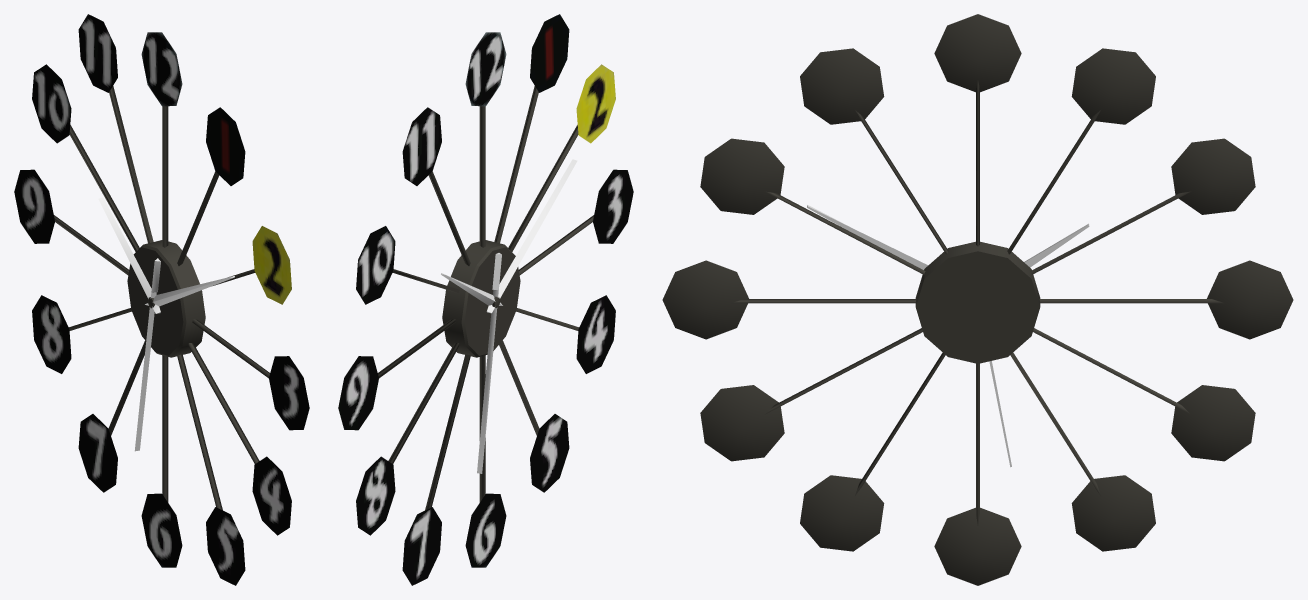
File: SZClock02.FBX
3 views of the same model, side by side, from view 1: azimuth 30°, elevation 25°; view 2: azimuth 150°, elevation 25°; view 3: azimuth 270°, elevation 25° (orthographic). The views are drawn at different scales.
Parts seen in each view (by area): view 1: SZClock02; view 2: SZClock02; view 3: SZClock02.
Boxes of the visible parts, x1=… form: SZClock02: x1=14, y1=14, x2=309, y2=585; SZClock02: x1=338, y1=14, x2=633, y2=585; SZClock02: x1=662, y1=14, x2=1293, y2=585.
Size of the model in its own units: 1.85 by 34.5 by 34.5.
